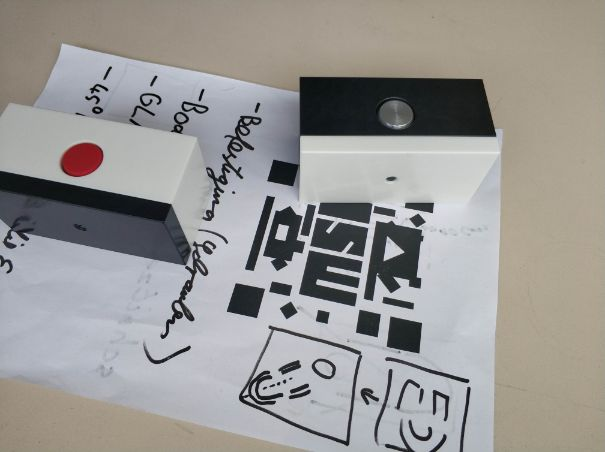black+white+red: (1, 101, 214, 268)
white+black+silver: (297, 73, 501, 207)
